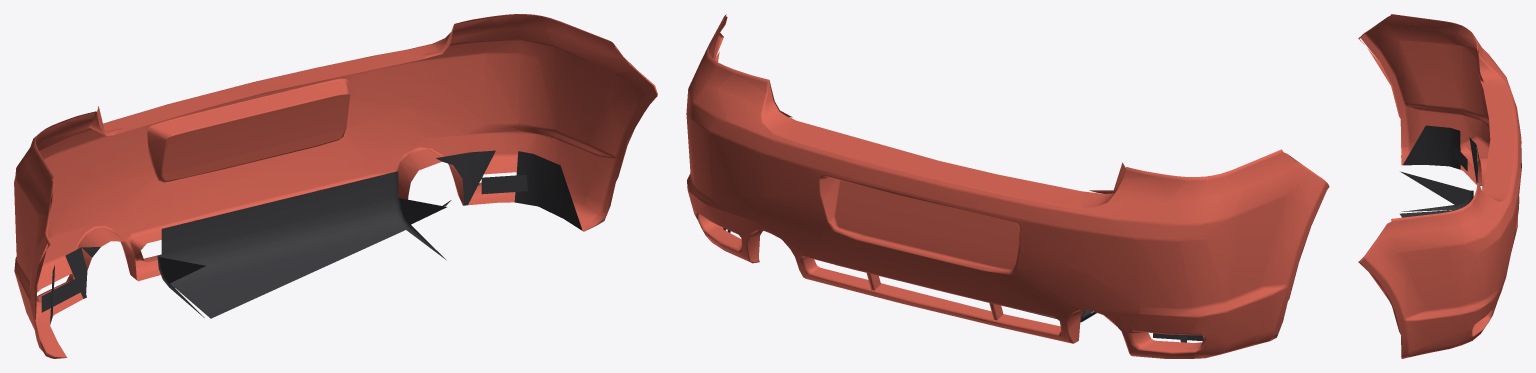
File: wendtStrom_rearBumper_euro.glb
3 renders of one model, left to right at view 1: azimuth 30°, elevation 25°; view 2: azimuth 150°, elevation 25°; view 3: azimuth 270°, elevation 25°, orthographic. The views are drawn at different scales.
Visible parts, largest first — view 1: rearBumper_euro; view 2: rearBumper_euro; view 3: rearBumper_euro.
Boxes of the visible parts, left/top/right/bottom form: rearBumper_euro: left=14, top=14, right=657, bottom=358; rearBumper_euro: left=686, top=14, right=1329, bottom=358; rearBumper_euro: left=1358, top=14, right=1521, bottom=358.
Size of the model in its own units: 1.7 by 0.5188 by 0.523.
